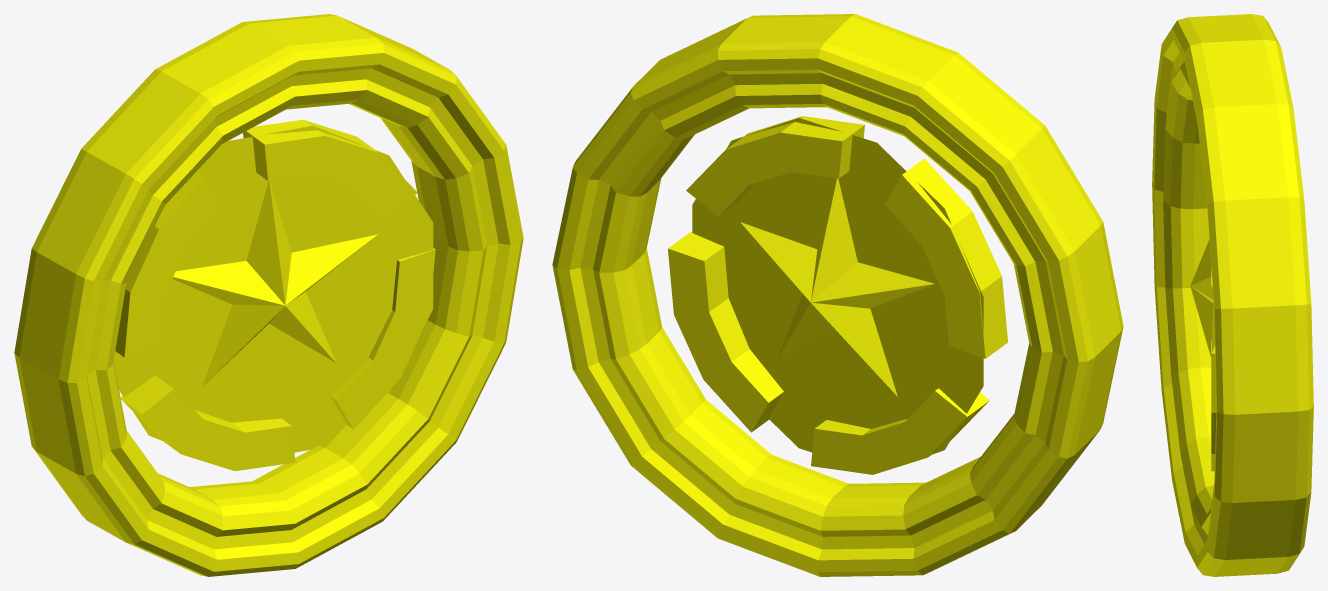
3 views of the same model, side by side, from view 1: azimuth 30°, elevation 25°; view 2: azimuth 150°, elevation 25°; view 3: azimuth 270°, elevation 25° (orthographic). The views are drawn at different scales.
Visible parts, largest first — view 1: name1_0, circle_3, tube_6, Star_2; view 2: name1_0, circle_3, tube_6, Star_2; view 3: name1_0, Star_2, tube_6.
Boxes of the visible parts, x1,y1,x2,y2 form: name1_0: [14, 14, 523, 576]; circle_3: [113, 126, 433, 452]; tube_6: [115, 119, 435, 471]; Star_2: [172, 181, 377, 386]; name1_0: [552, 14, 1123, 576]; circle_3: [692, 118, 983, 454]; tube_6: [668, 116, 1007, 474]; Star_2: [740, 178, 934, 396]; name1_0: [1152, 14, 1313, 576]; Star_2: [1190, 239, 1213, 357]; tube_6: [1211, 268, 1216, 471].
Bounding box in the file's own units: 164 × 163 × 46.87.
Materials: 4 (4 with a texture image).
